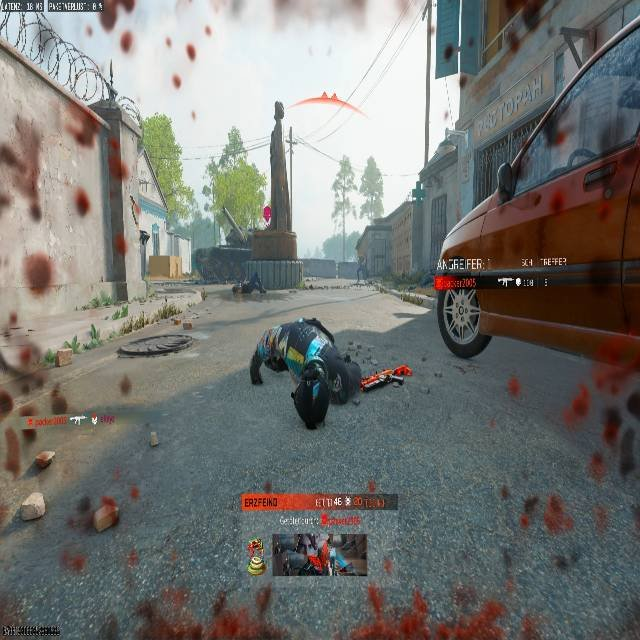head: (290, 379, 332, 429)
